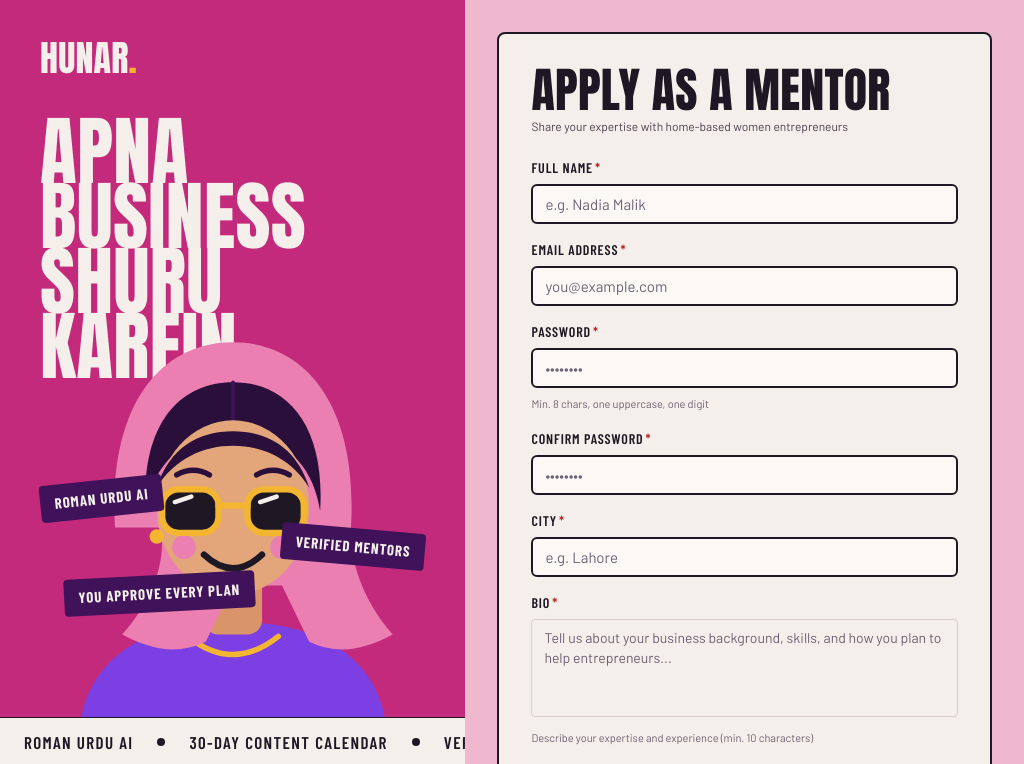
Test case: MentorApplyPage › shows password mismatch error
The image size is (1024, 764).
Type "Nadia Malik" into the field labelled "Full Name*" at (745, 204), box [532, 184, 958, 224]
Type "nadia@example.com" into the field labelled "Email Address*" at (745, 286), box [532, 266, 958, 306]
Type "Secure123" into the password field with placeholder "••••••••" at (745, 368), box [532, 348, 958, 388]
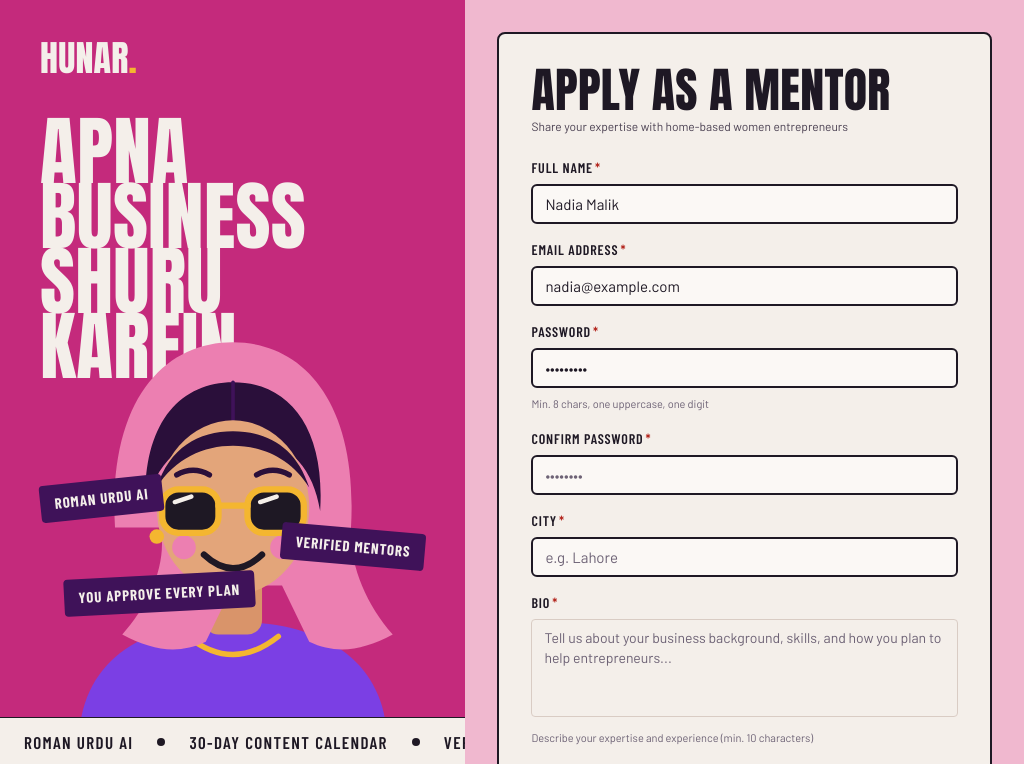
Type "Different456" into the password field with placeholder "••••••••" at (745, 474), box [532, 454, 958, 494]
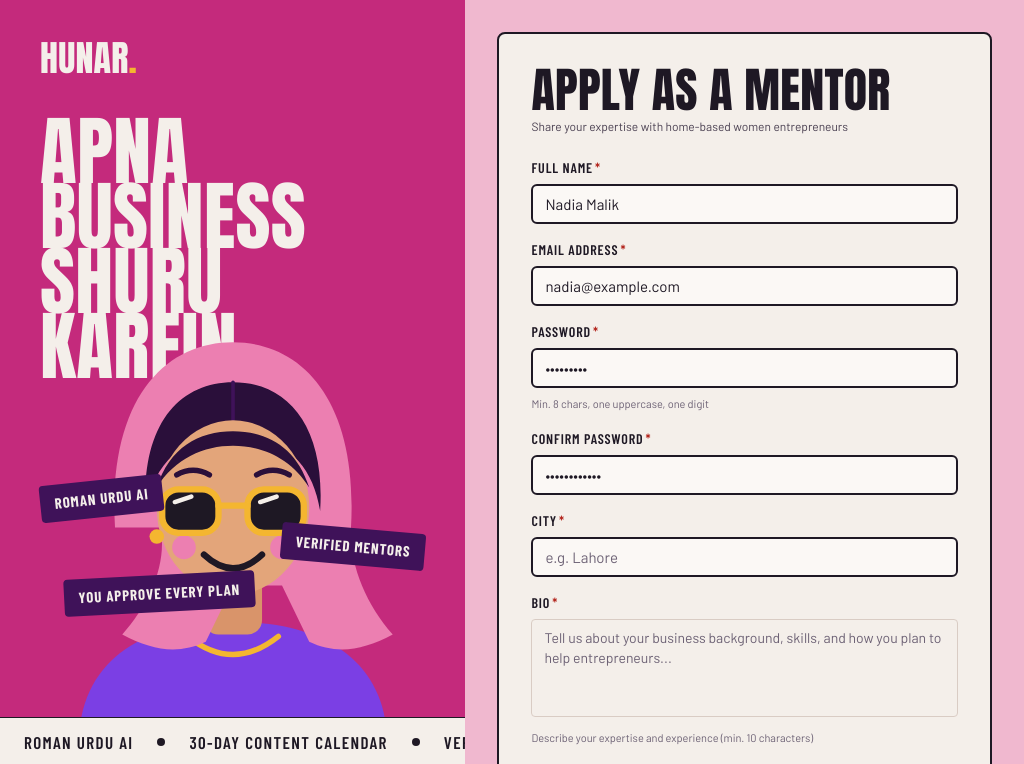
Type "Lahore" into the field labelled "City*" at (745, 556), box [532, 536, 958, 576]
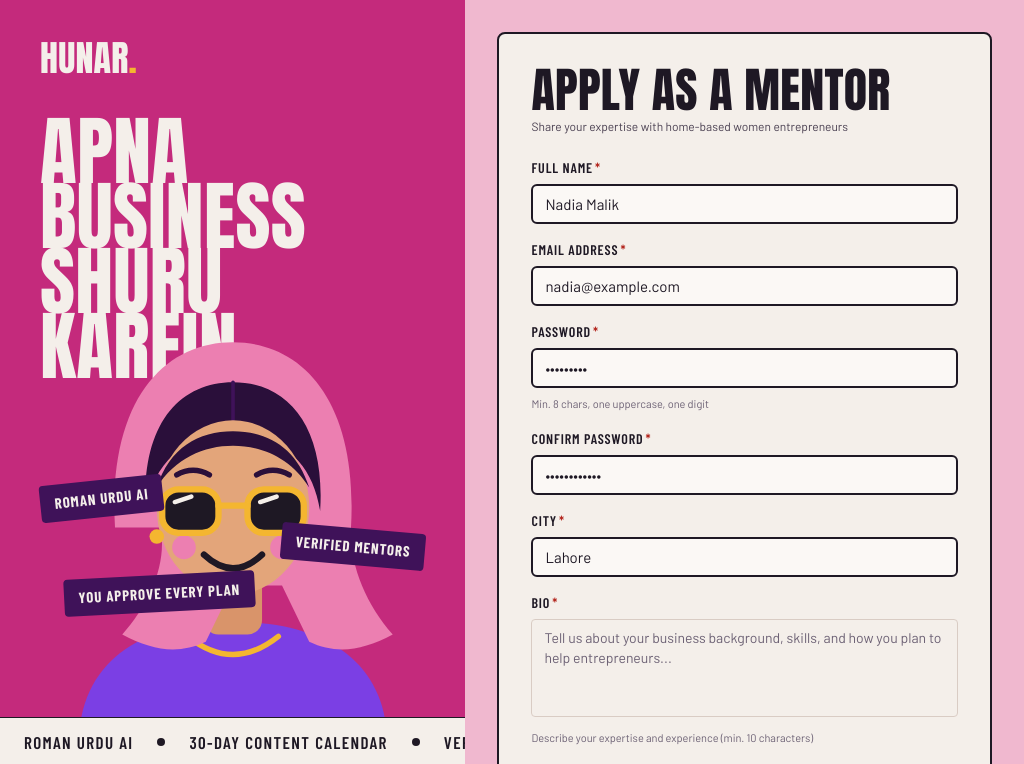
Replace the text in the text box labelled "Bio*" with "10+ years experience in embroidery teaching." at (745, 668), box [532, 618, 958, 716]
(page scrolled)
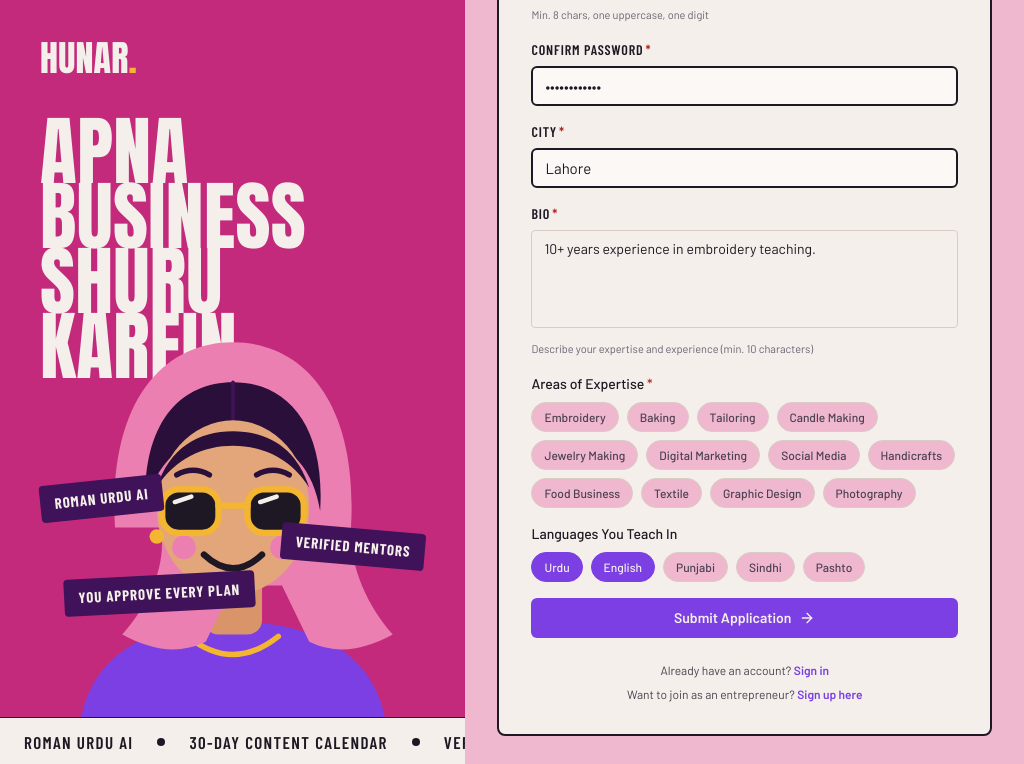
Click the button "Embroidery" at (575, 416), box [532, 402, 619, 432]
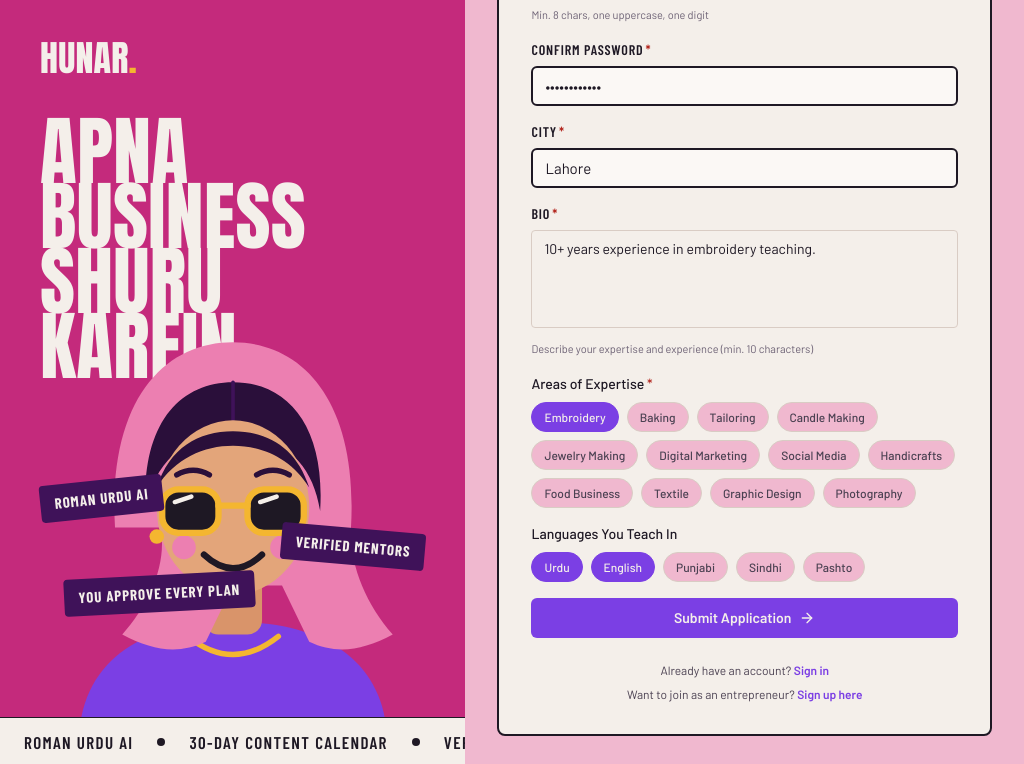
Click the button "Submit Application" at (745, 618), box [532, 598, 958, 638]
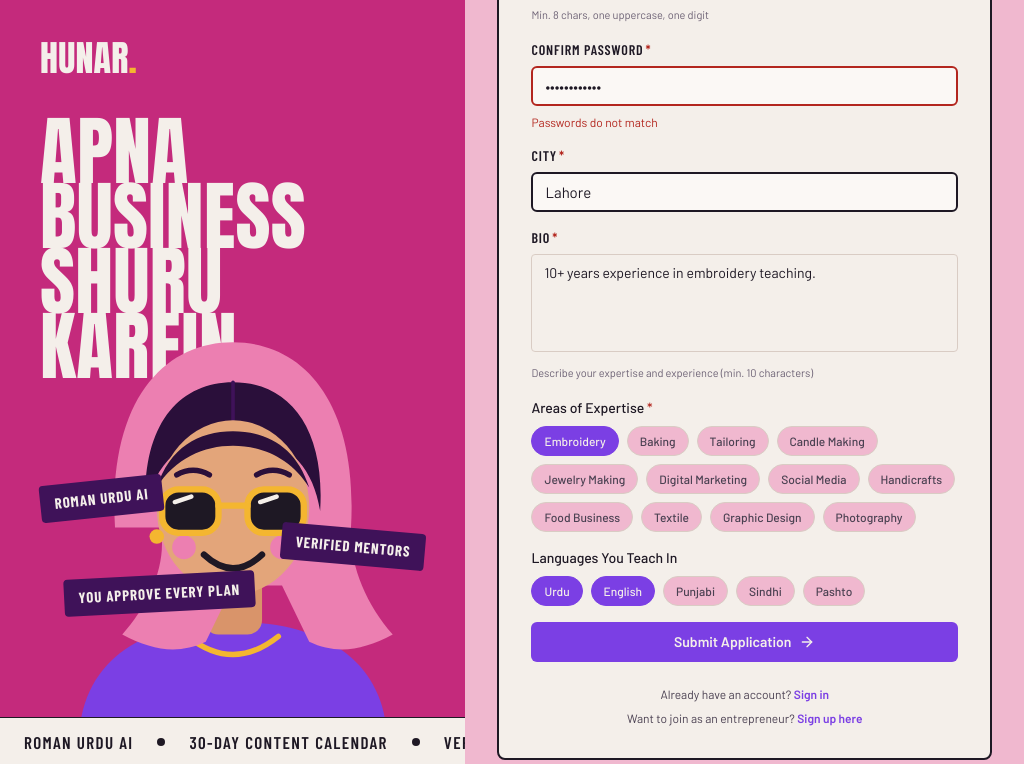
Now the text "Passwords do not match" is shown, box [532, 114, 658, 128]
